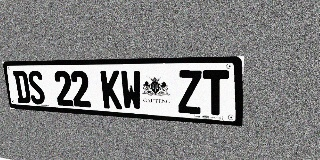2: (70, 70, 91, 107), (53, 70, 74, 106)
D: (13, 71, 31, 104)
K: (100, 70, 122, 109)
S: (27, 71, 46, 105)
T: (202, 70, 229, 116)
W: (120, 70, 143, 111)
Z: (177, 70, 202, 114)
